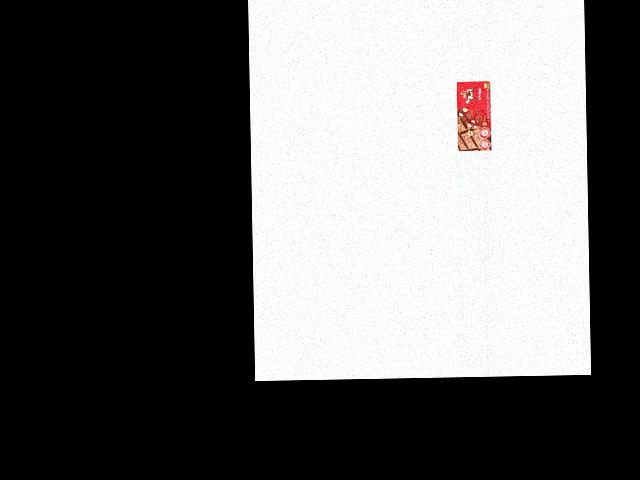chocolate: (456, 80, 492, 151)
